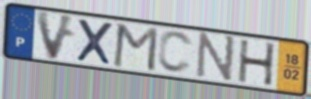C: (155, 30, 195, 76)
H: (238, 39, 278, 88)
M: (111, 22, 160, 74)
N: (194, 31, 238, 85)
V: (34, 9, 78, 63)
X: (74, 17, 115, 68)
